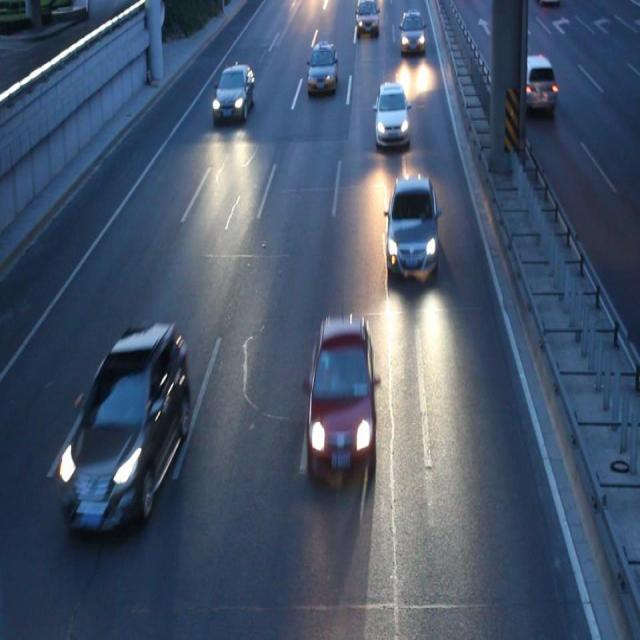car: (58, 323, 189, 528), (302, 317, 379, 481), (383, 177, 438, 280), (373, 82, 411, 146), (213, 63, 253, 121), (306, 42, 338, 95), (399, 11, 425, 53), (354, 1, 378, 37)
